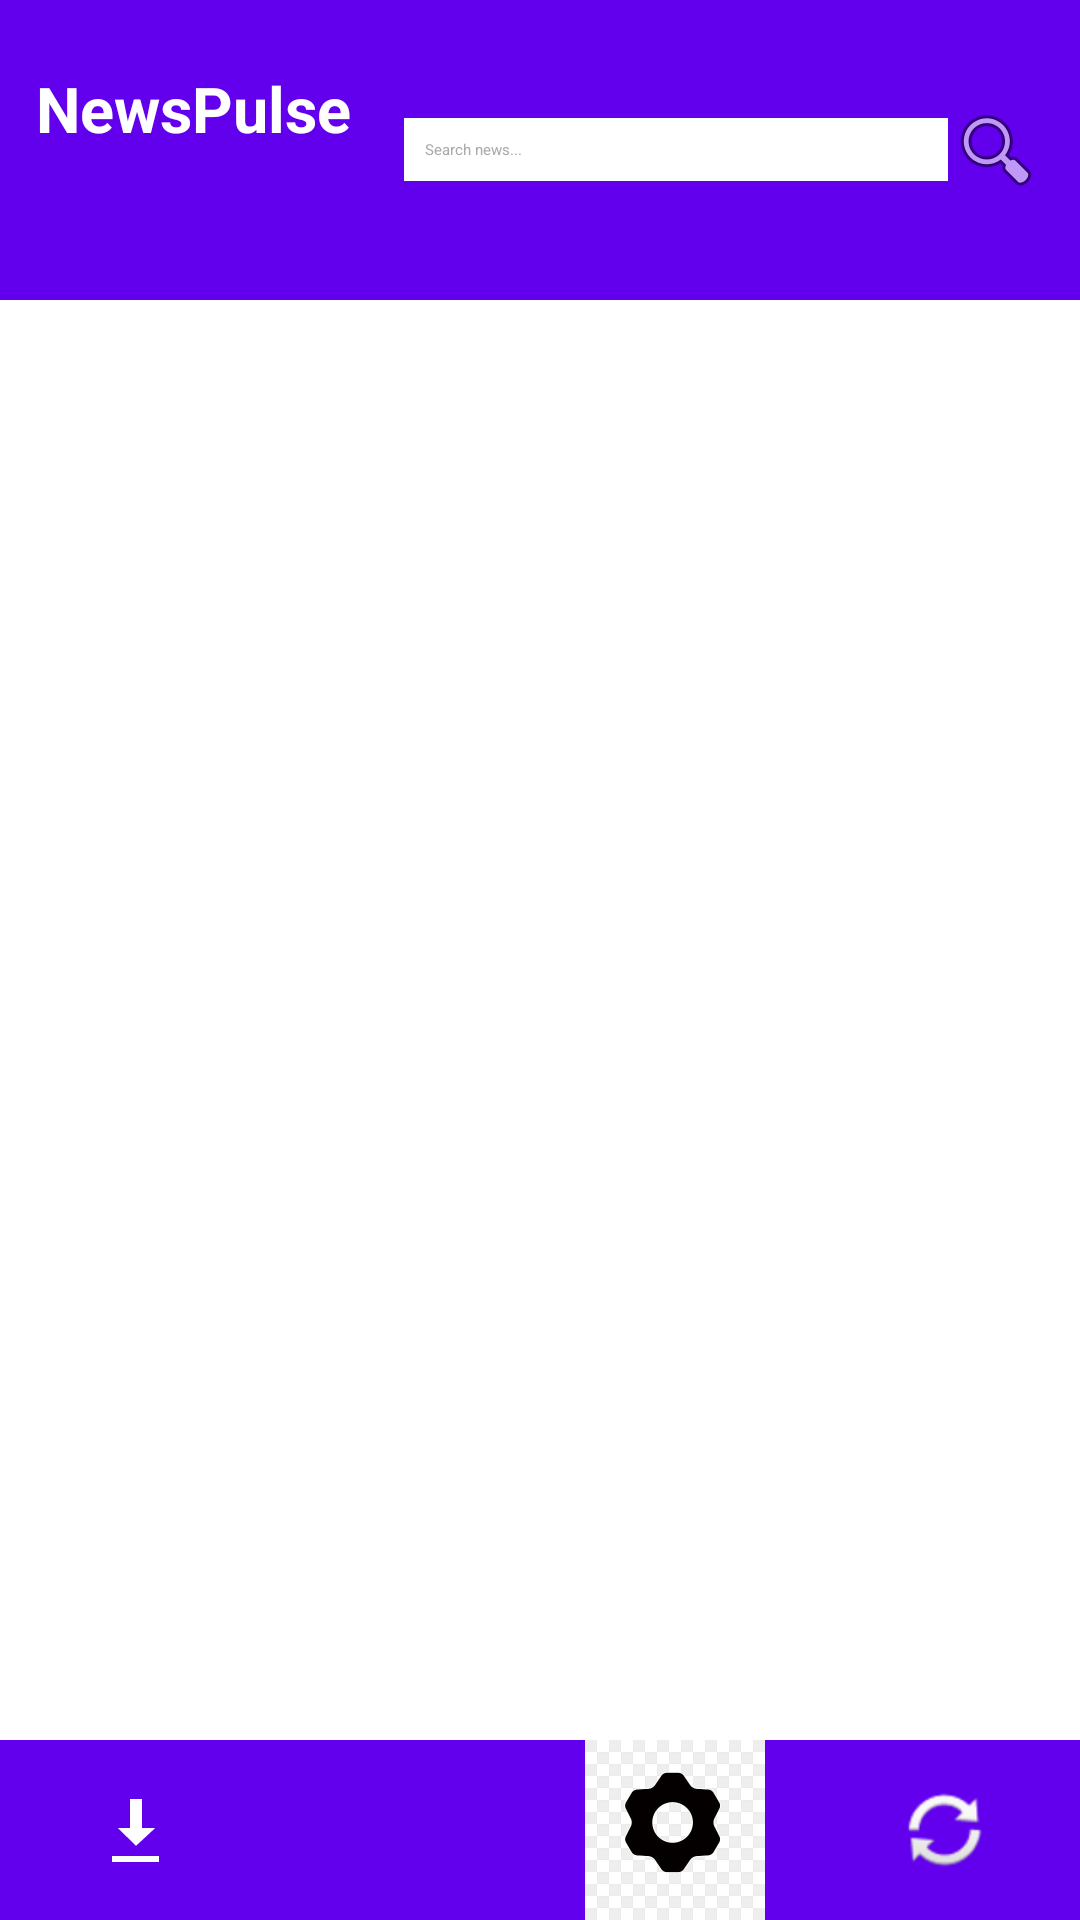

Icon click points for this 1080x1920 phone screenshot, format [x,y]:
Downloads: [135,1830]
Refresh: [945,1830]
Settings: [675,1830]
